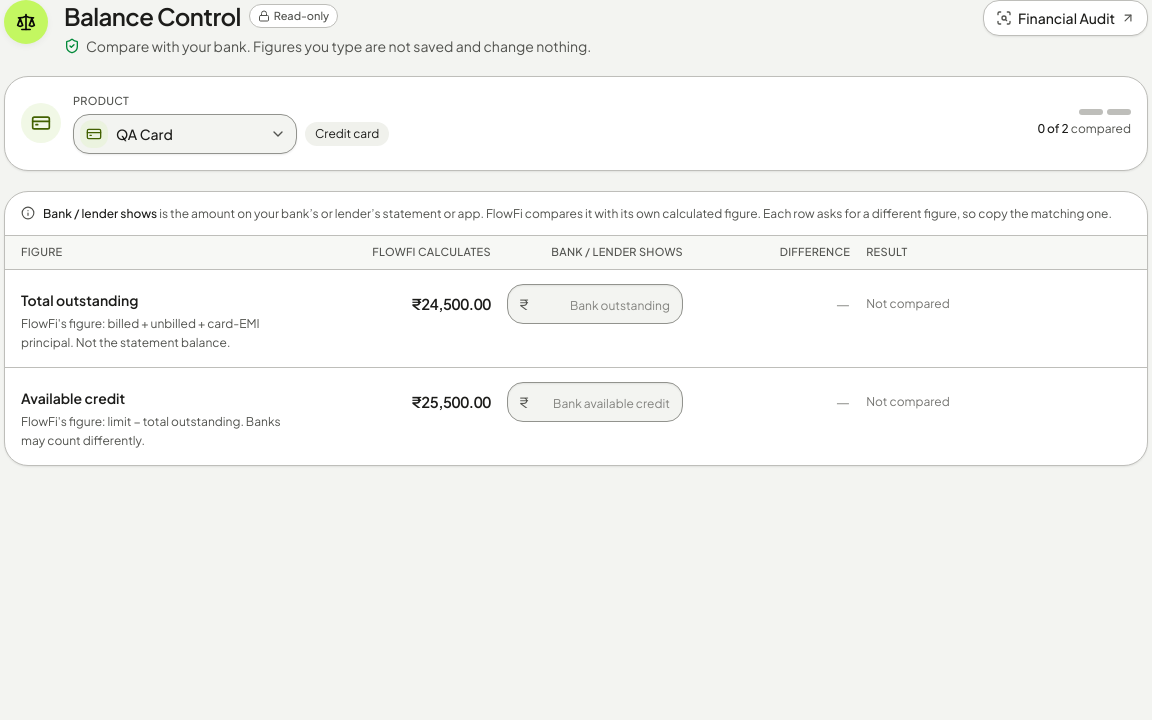
Test: reconciliation sheet › shows FlowFi, bank and the signed difference
Type "25200" into the field with test id "bank-input" at (595,304), box [507, 284, 683, 324]
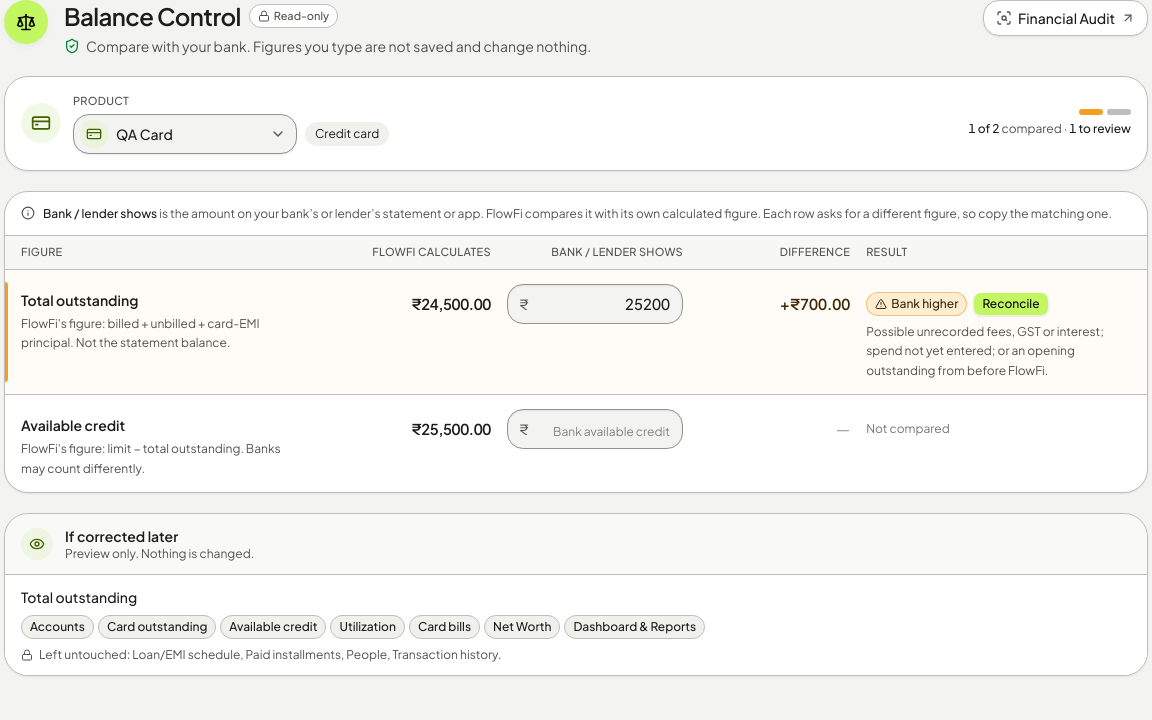
Click the button with test id "reconcile-button" at (1011,304), box [973, 292, 1048, 316]
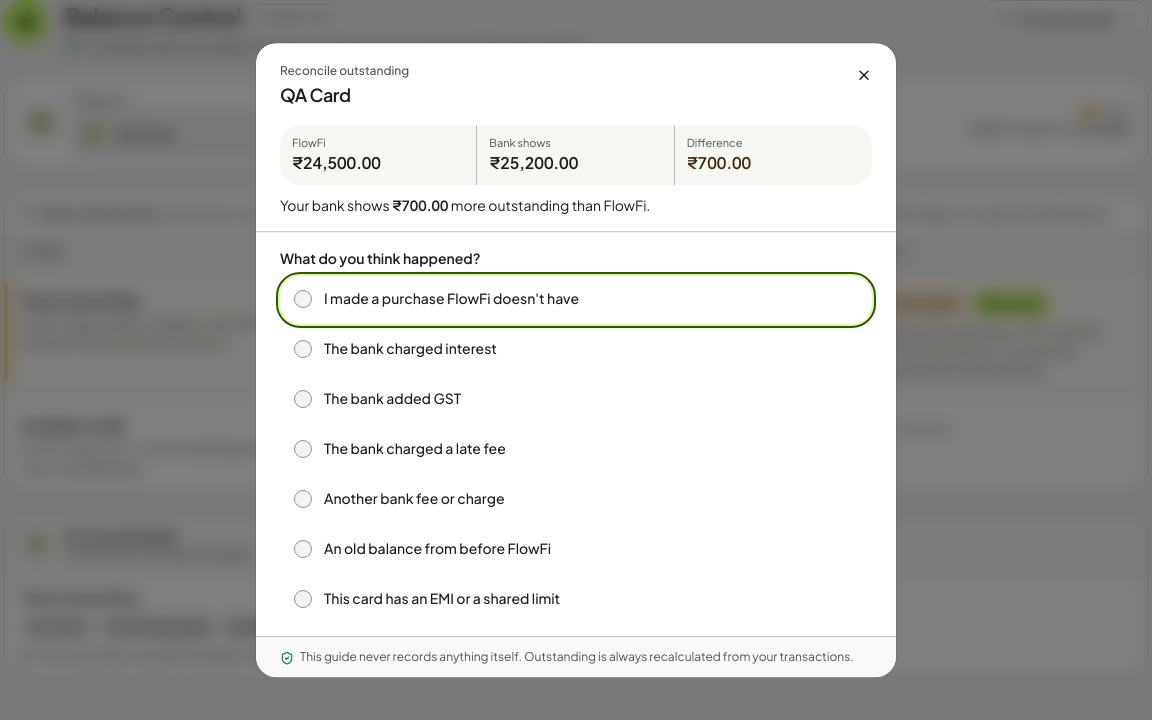
Result: the text with test id "reconcile-flowfi-value" shows "24,500" at [292, 152, 381, 173]
Result: the text with test id "reconcile-bank-value" shows "25,200" at [489, 152, 578, 173]
Result: the text with test id "reconcile-difference" shows "700" at [687, 152, 751, 173]
